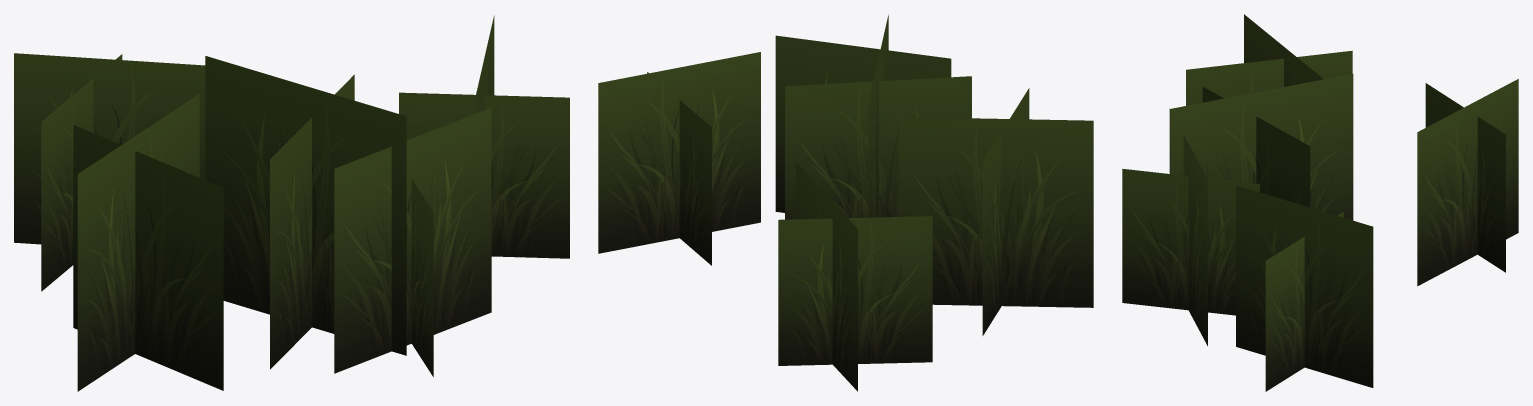
Rendered from Grass_010.fbx.
3 views of the same model, side by side, from view 1: azimuth 30°, elevation 25°; view 2: azimuth 150°, elevation 25°; view 3: azimuth 270°, elevation 25° (orthographic). The views are drawn at different scales.
Visible parts, largest first — view 1: Grass_010; view 2: Grass_010; view 3: Grass_010.
Part boxes in pixels (x1=…): Grass_010: x1=14, y1=15, x2=569, y2=391; Grass_010: x1=598, y1=14, x2=1093, y2=391; Grass_010: x1=1122, y1=14, x2=1518, y2=391.
Size of the model in its own units: 2.15 by 0.9753 by 1.8.
Materials: 1 (1 with a texture image).
